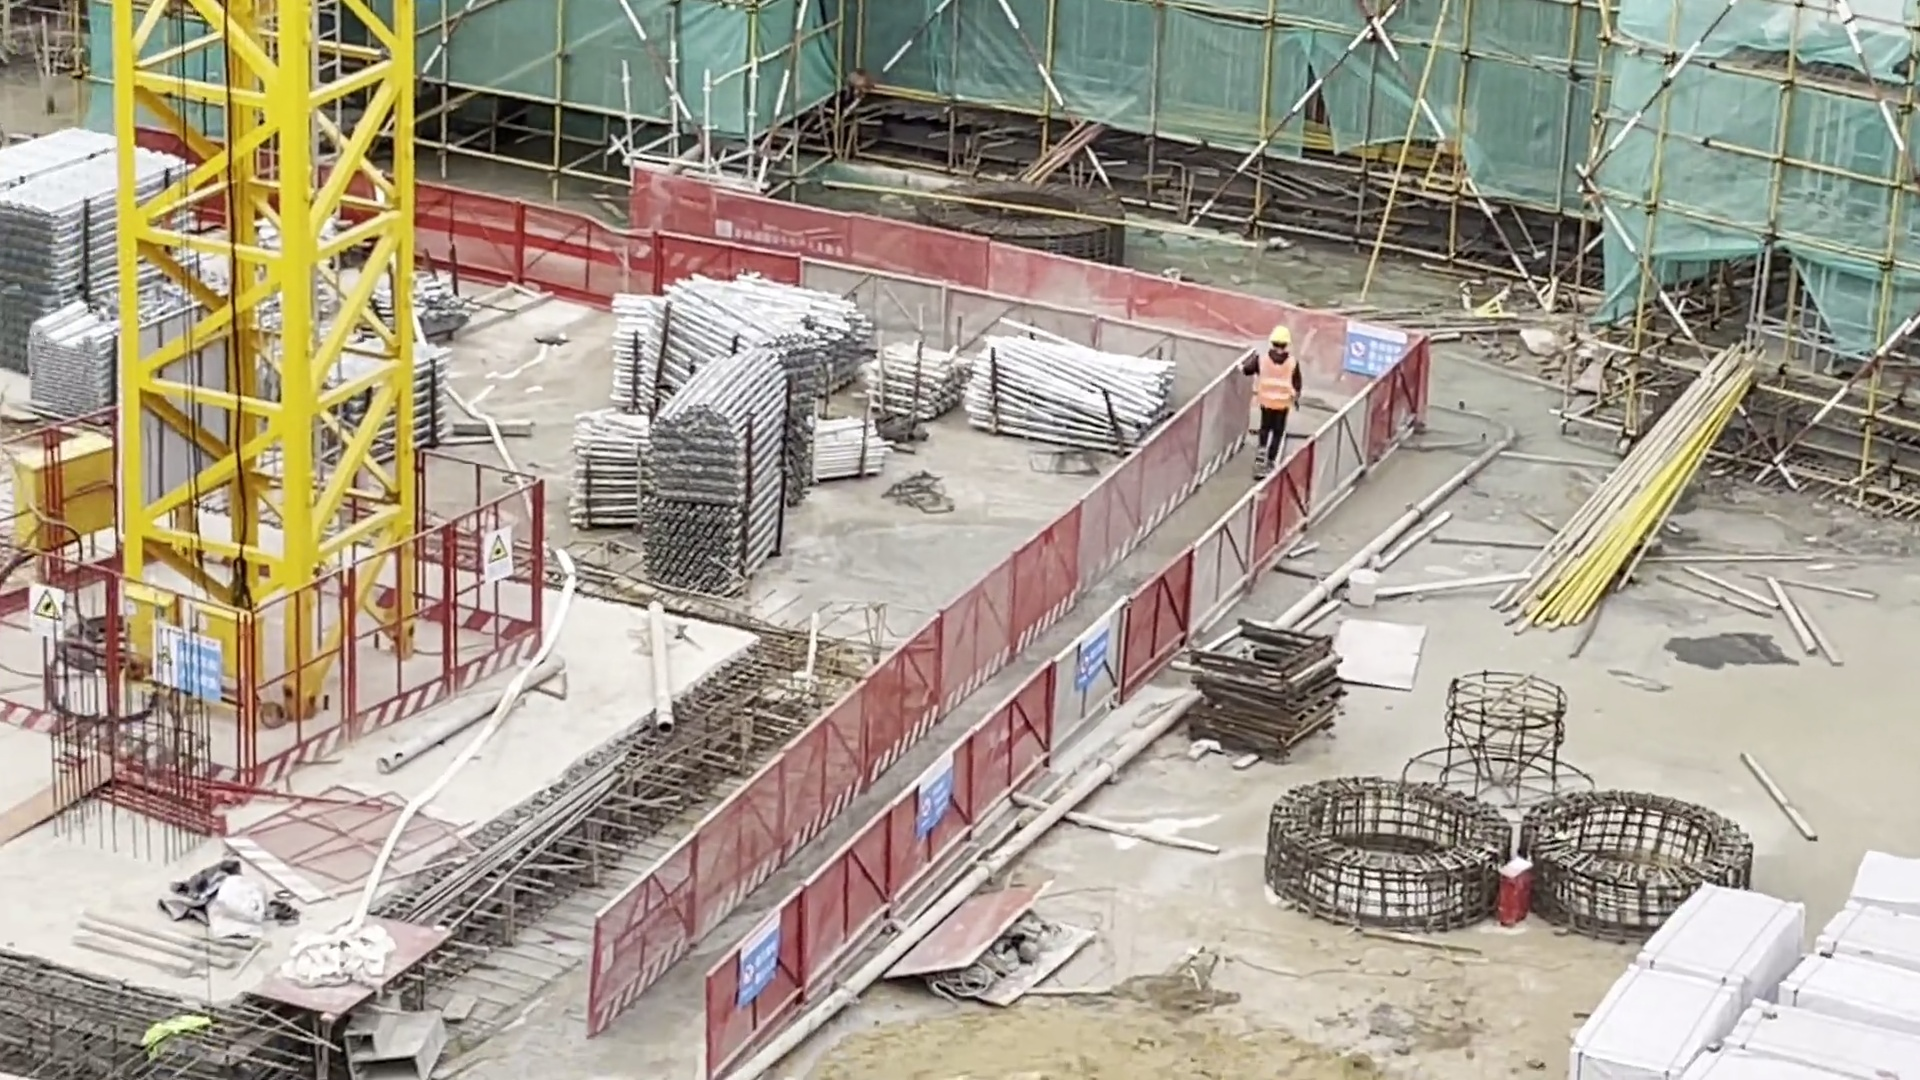fence: (812, 521, 1130, 949), (529, 213, 1356, 350)
helmet: (1268, 325, 1295, 347)
person: (1249, 315, 1305, 472)
scaffold: (6, 119, 195, 422), (624, 353, 803, 591), (606, 262, 877, 417), (955, 309, 1182, 473), (567, 412, 654, 541), (873, 339, 964, 435)
vest: (1257, 351, 1298, 418)
